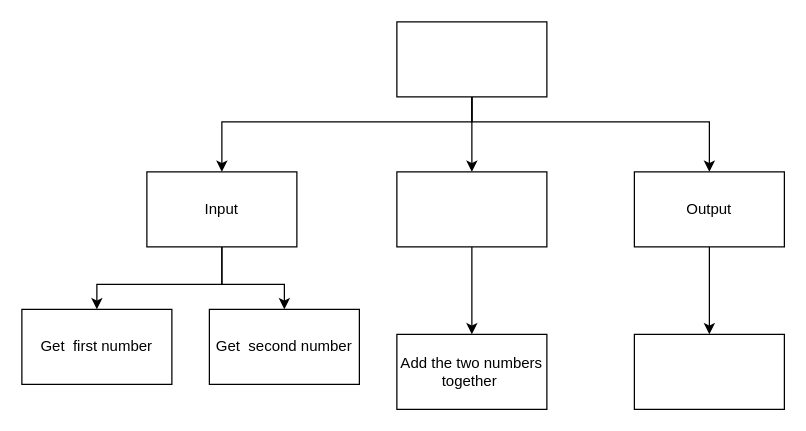
This 806x431 diagram has some shape labels left out. Each missing label, with the centre of its shape:
"Area and Perimeter" goes at (x=471, y=59).
"Process" goes at (x=471, y=209).
"Show the answer" goes at (x=708, y=371).
